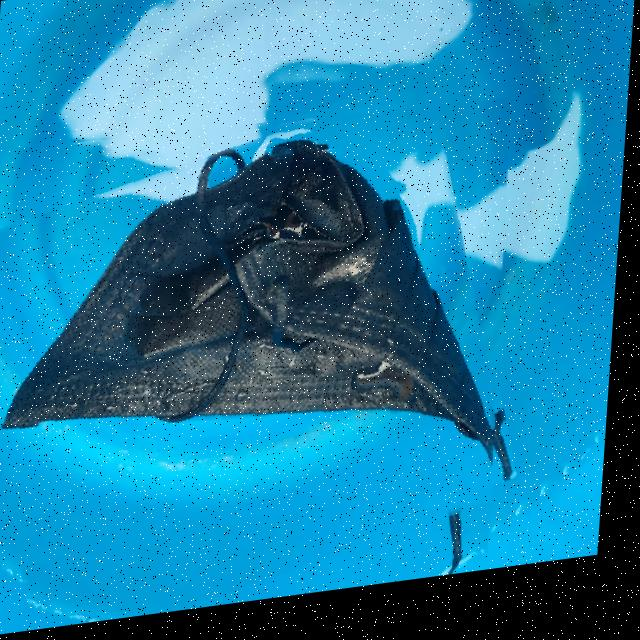litter: (0, 94, 521, 640)
